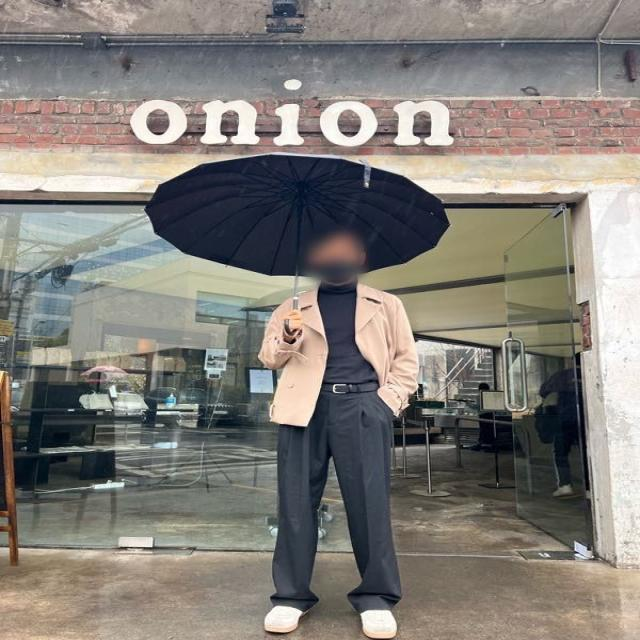blazer: (261, 277, 425, 425)
slacks: (276, 380, 406, 608)
